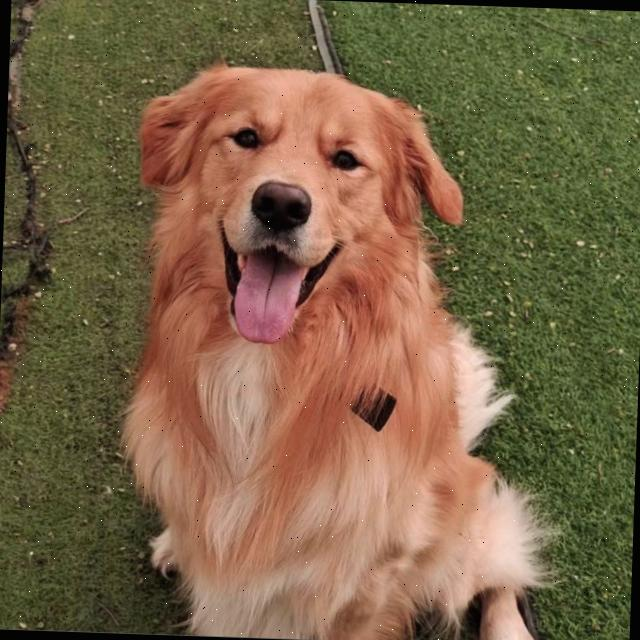golden_retriever_dog: (112, 35, 500, 397)
